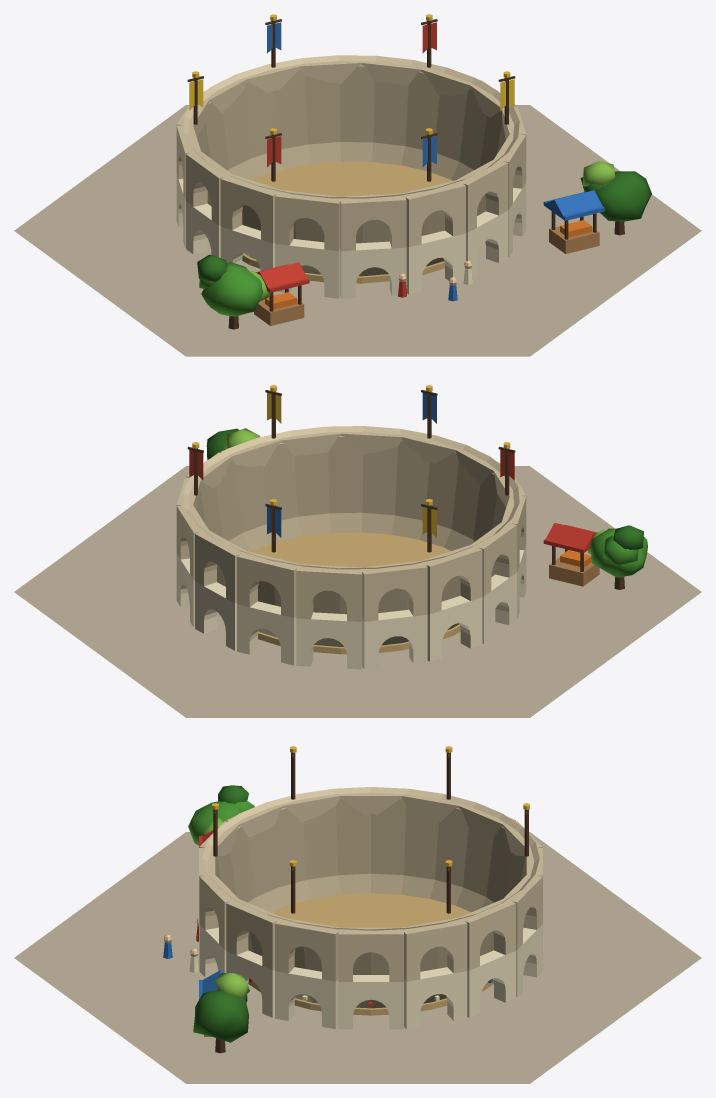
The model's file is district_entertainment_complex_2.fbx.
3 renders of one model, top to bottom at view 1: azimuth 30°, elevation 25°; view 2: azimuth 150°, elevation 25°; view 3: azimuth 270°, elevation 25°, orthographic.
Parts seen in each view (by area): view 1: district_entertainment_complex_2; view 2: district_entertainment_complex_2; view 3: district_entertainment_complex_2.
Boxes of the visible parts, bbox=[...] form: district_entertainment_complex_2: bbox=[14, 14, 701, 356]; district_entertainment_complex_2: bbox=[14, 385, 701, 717]; district_entertainment_complex_2: bbox=[14, 746, 701, 1083].
Size of the model in its own units: 182 by 51.6 by 210.
